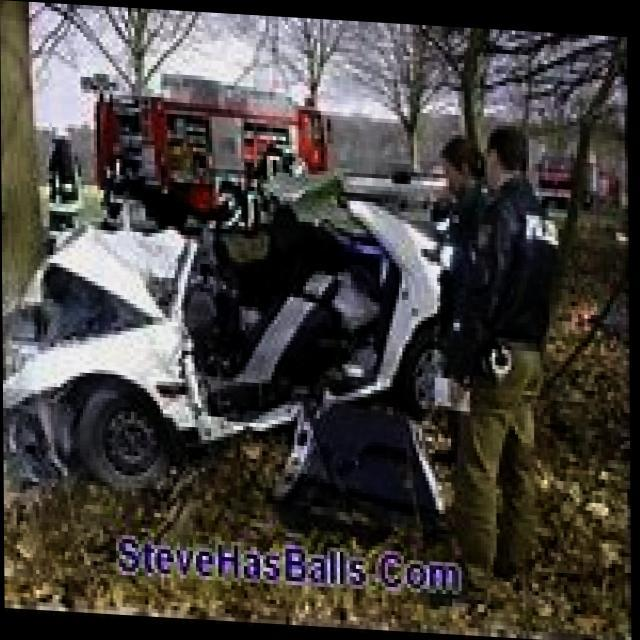single accident: (8, 11, 634, 551)
